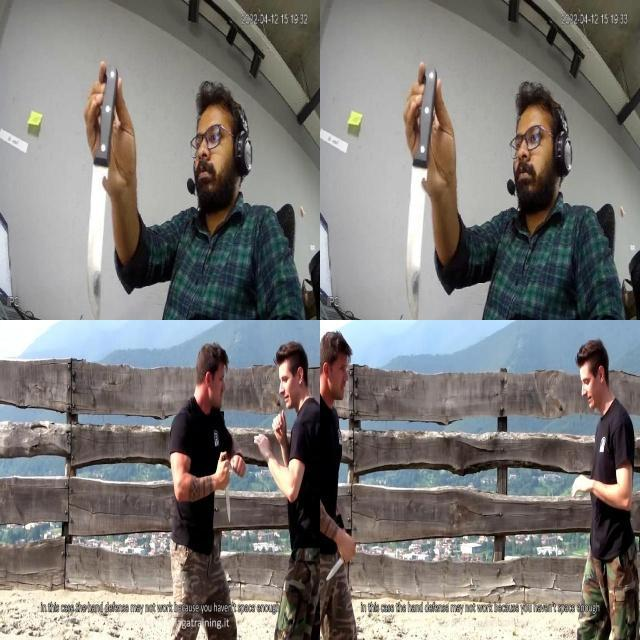-: (75, 142, 118, 319), (405, 137, 428, 319), (324, 537, 356, 581), (216, 458, 232, 523)
